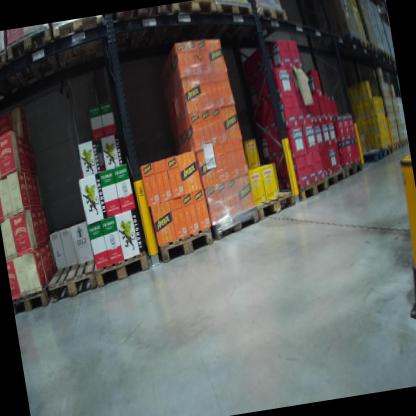pallet: (48, 15, 114, 74), (0, 24, 60, 88), (152, 217, 225, 269), (110, 5, 174, 61), (42, 252, 105, 304), (92, 243, 158, 290), (238, 1, 295, 52), (207, 197, 263, 243), (9, 267, 61, 316), (160, 0, 221, 41), (253, 182, 303, 222), (0, 45, 26, 109), (213, 0, 254, 33), (294, 175, 331, 208), (333, 31, 363, 53), (353, 41, 380, 58), (363, 148, 387, 166), (343, 159, 363, 179), (326, 168, 346, 187), (357, 38, 373, 53), (384, 145, 394, 157), (399, 135, 407, 150), (392, 142, 402, 153), (376, 46, 385, 58), (385, 49, 392, 62)
